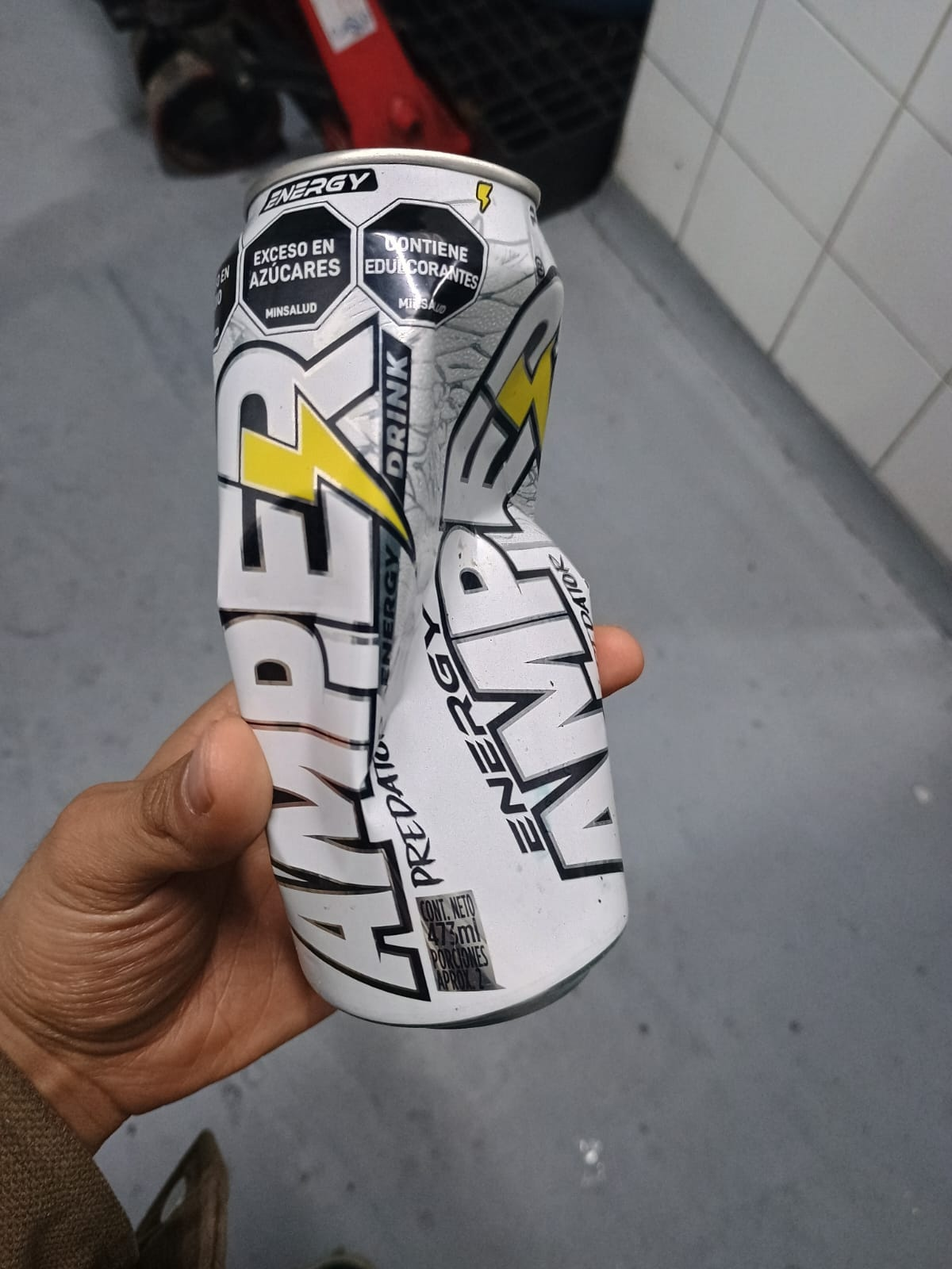Metal: (211, 142, 627, 1028)
